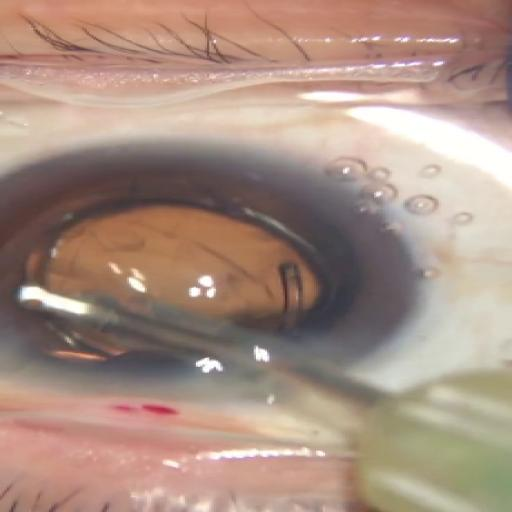catarata: (0, 138, 420, 402)
cornea: (0, 194, 356, 383)
